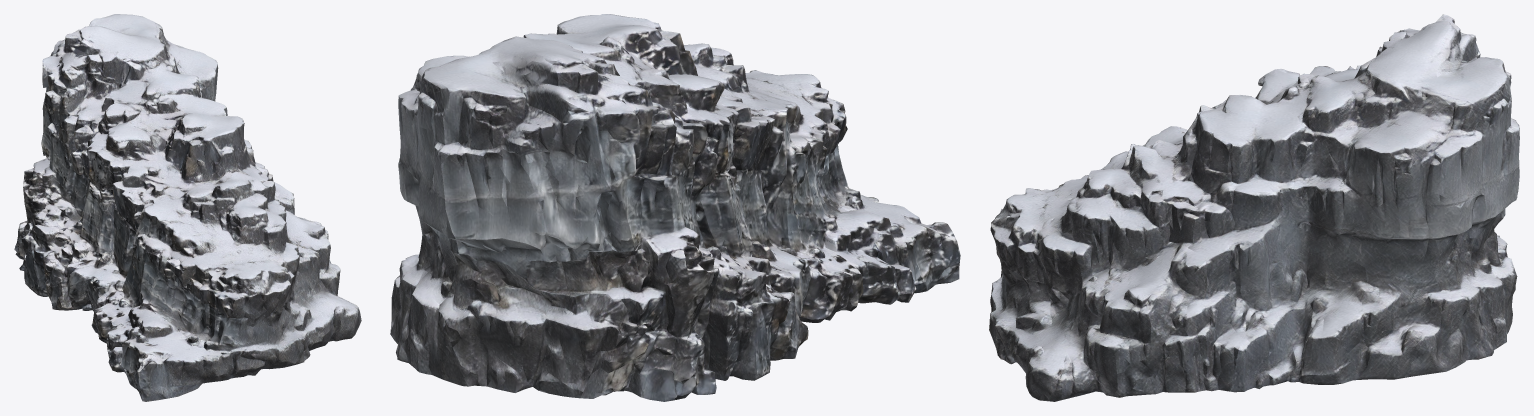
The model's file is MAP-C-ICEBANK-01-lod0.glb.
The picture shows the model from 3 angles, left to right: view 1: azimuth 30°, elevation 25°; view 2: azimuth 150°, elevation 25°; view 3: azimuth 270°, elevation 25°; orthographic projection. The views are drawn at different scales.
Visible parts, largest first — view 1: Mesh; view 2: Mesh; view 3: Mesh.
Boxes of the visible parts, x1,y1,x2,y2 form: Mesh: [14, 14, 361, 401]; Mesh: [390, 14, 960, 401]; Mesh: [989, 14, 1519, 401].
Size of the model in its own units: 1.32 by 1.24 by 1.89.
1 material, 1 textured.
